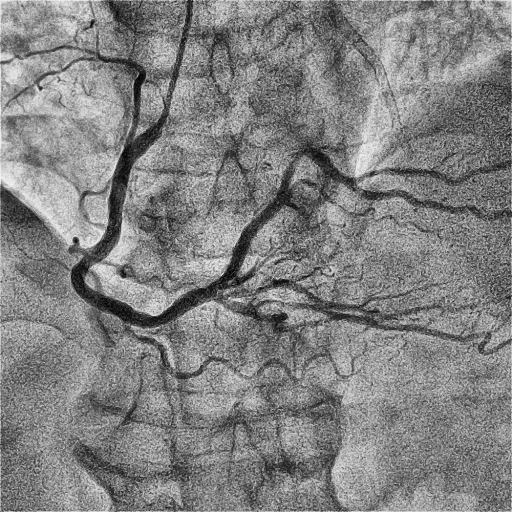pborca: (210, 146, 512, 288)
pda: (222, 297, 326, 331)
rca: (70, 126, 226, 328)
